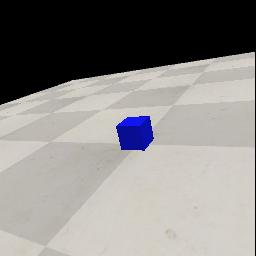box: (116, 116, 154, 151)
